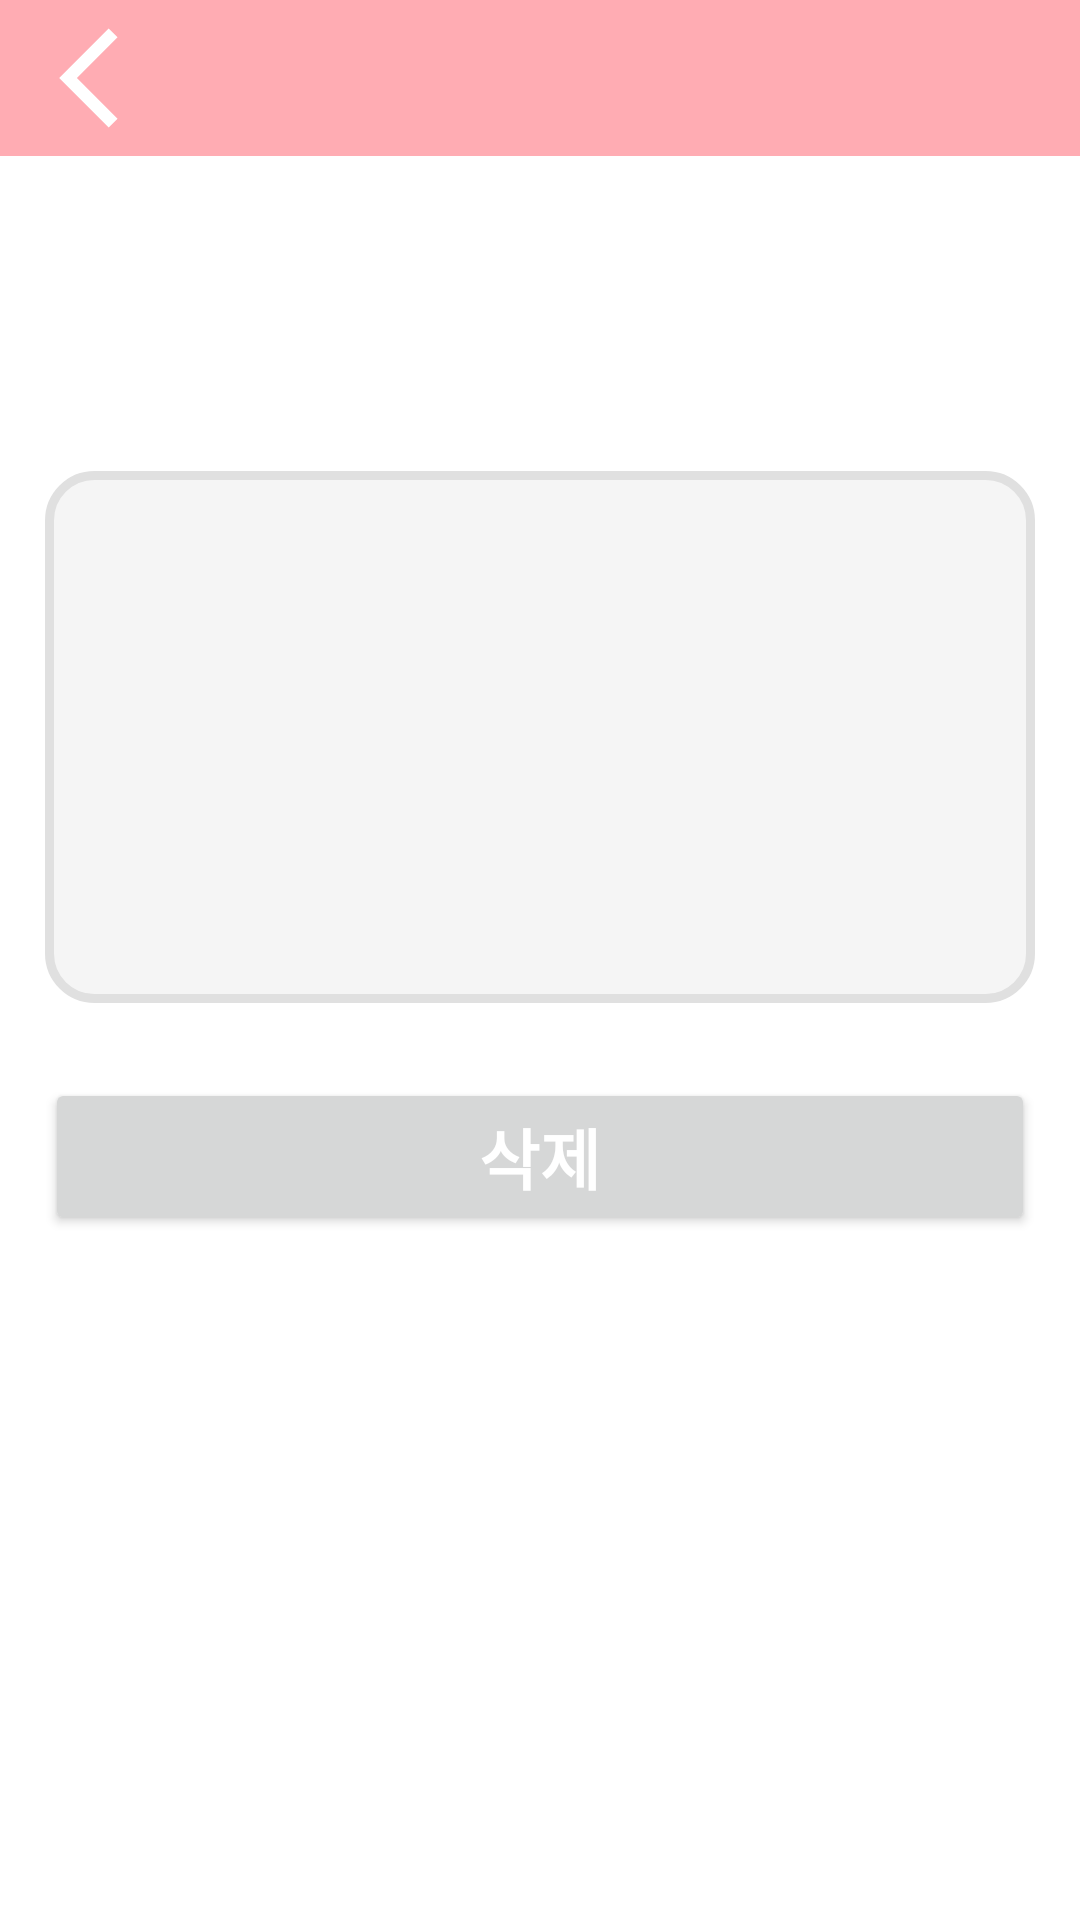

Icons on this 1080x1920 Android screen, each with its box as [x1,y1,x2,y2]:
arrow back: [59,29,117,127]
